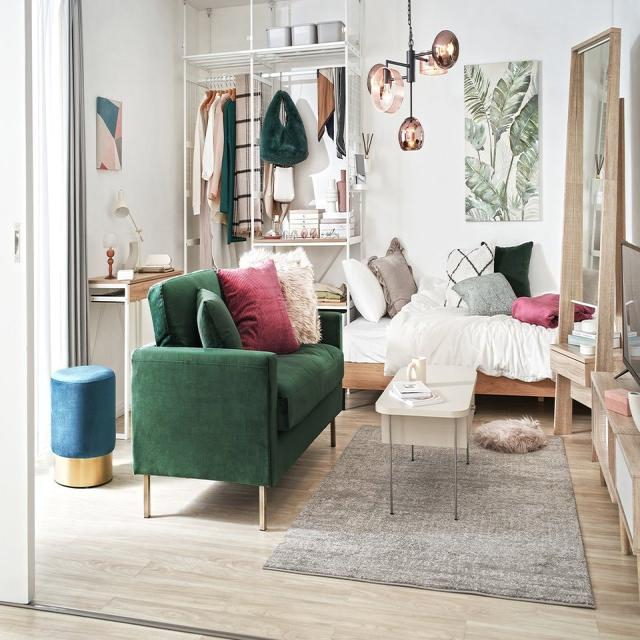modern desk: (376, 356, 481, 528)
modern shelf: (174, 7, 365, 260)
modern sofa: (137, 265, 349, 526)
